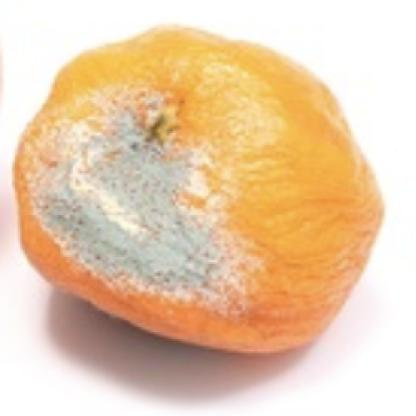rotten: (13, 25, 383, 362)
